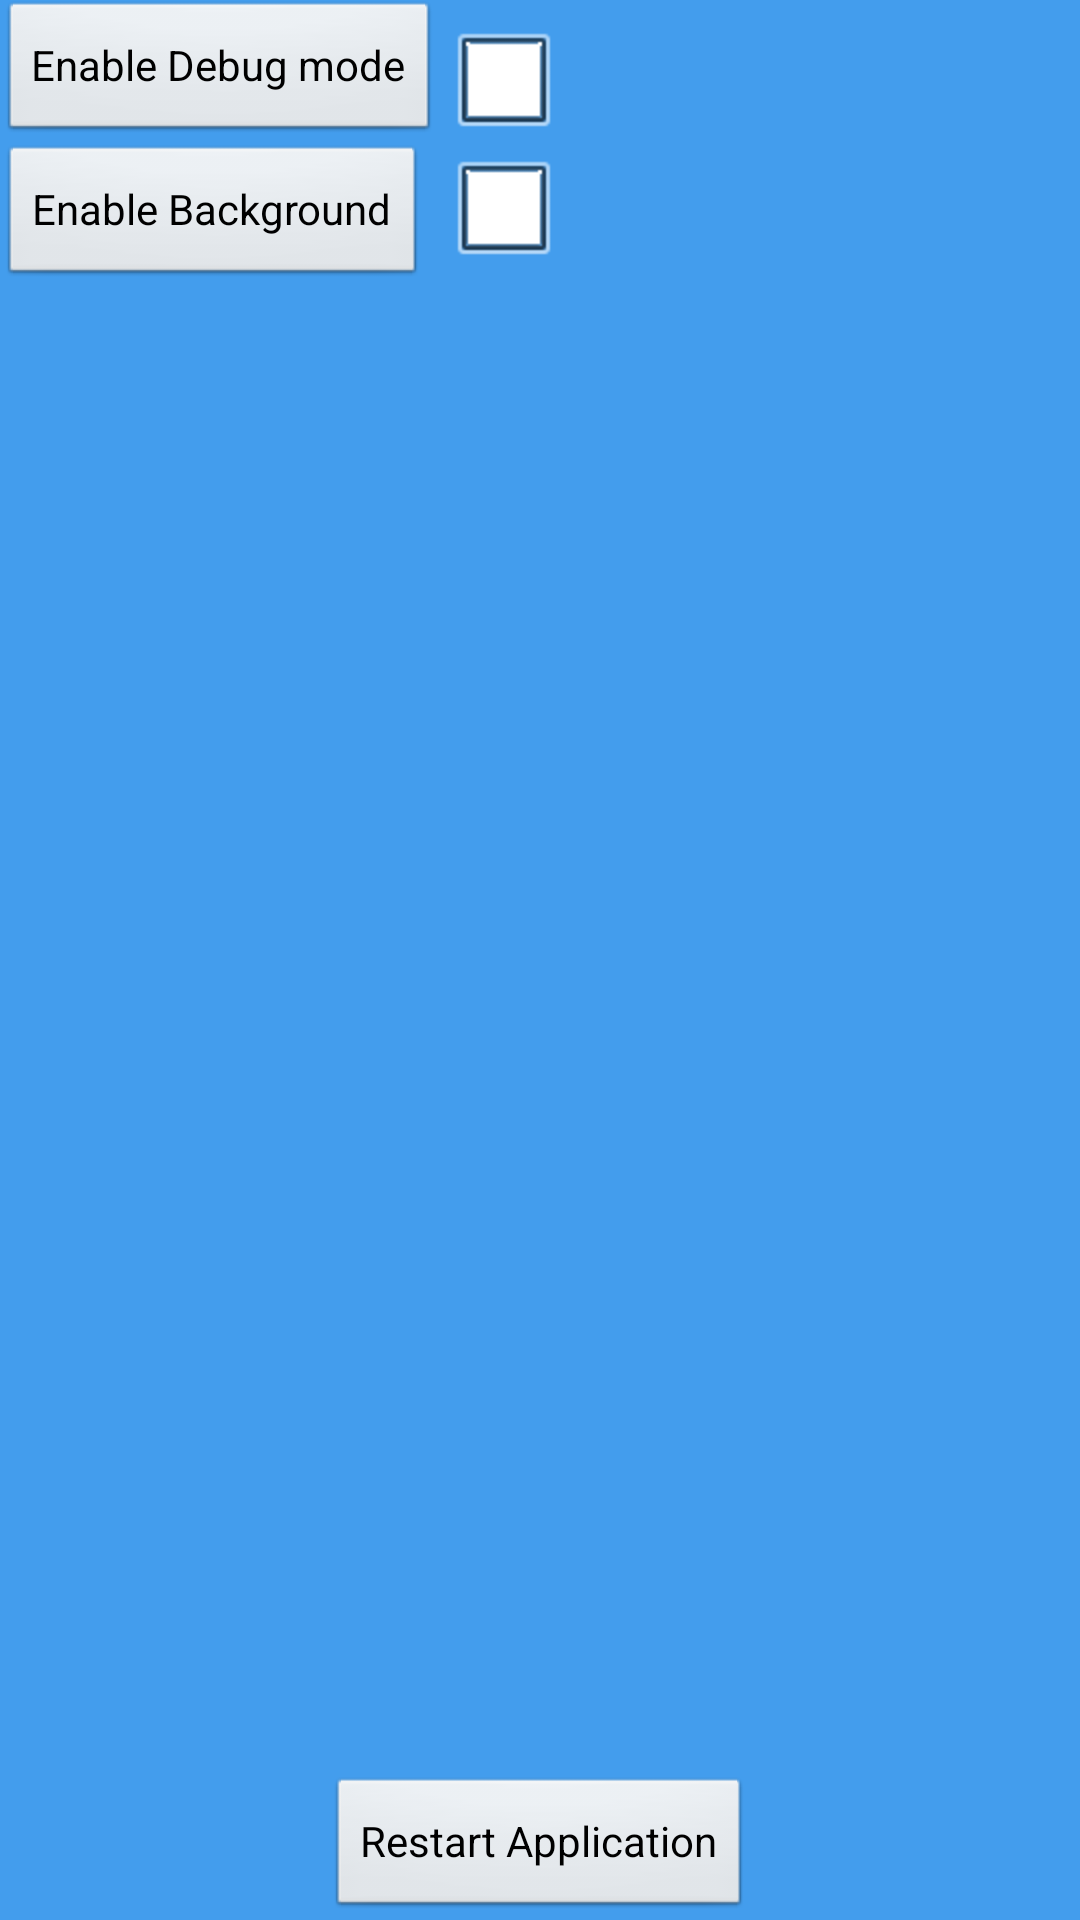

Named icons in this screenshot (1080 x 1920) and their centers, [x,y]:
checkbox: [504,80], [504,208]
